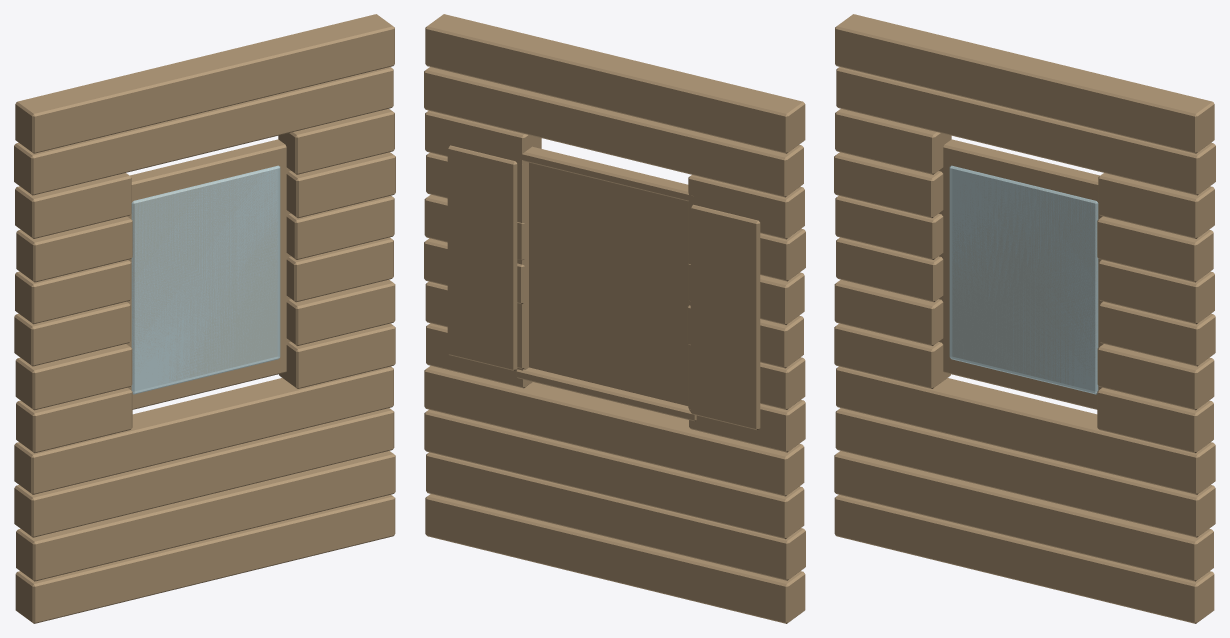
The model's file is window_shutters_open.glb.
The picture shows the model from 3 angles, left to right: view 1: azimuth 30°, elevation 25°; view 2: azimuth 150°, elevation 25°; view 3: azimuth 330°, elevation 25°; orthographic projection.
Parts seen in each view (by area): view 1: window_shutters_open; view 2: window_shutters_open; view 3: window_shutters_open.
Part boxes in pixels (<box>): window_shutters_open: <box>14,14,395,623</box>; window_shutters_open: <box>424,14,805,623</box>; window_shutters_open: <box>834,14,1215,623</box>.
Size of the model in its own units: 2 by 2.68 by 0.2199.
